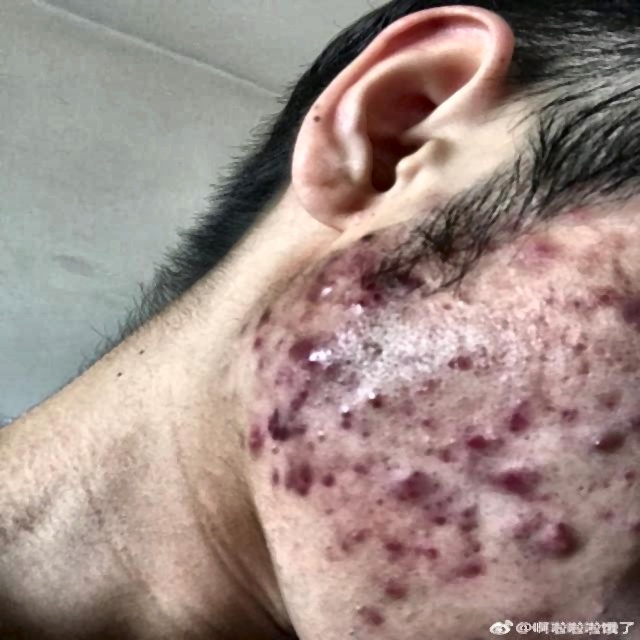nodule: (552, 280, 628, 327), (480, 454, 552, 493), (375, 466, 429, 504), (469, 393, 526, 428), (347, 368, 391, 412), (441, 534, 482, 581), (286, 344, 326, 380), (245, 305, 280, 343), (299, 276, 347, 303), (362, 596, 402, 628), (541, 527, 582, 558), (589, 384, 628, 416), (311, 458, 347, 492), (360, 265, 384, 314), (238, 424, 273, 457), (588, 430, 628, 458), (275, 406, 307, 441), (511, 501, 548, 531), (427, 441, 462, 471), (331, 320, 383, 340), (558, 200, 596, 227), (569, 475, 610, 498), (393, 348, 440, 368), (366, 574, 404, 598), (280, 472, 315, 498), (551, 401, 586, 427), (448, 502, 473, 537), (315, 540, 344, 570), (331, 405, 363, 432), (412, 372, 445, 398), (526, 311, 561, 335), (597, 256, 631, 280), (354, 339, 392, 360), (596, 230, 632, 252), (344, 454, 378, 477), (452, 426, 482, 452), (573, 356, 599, 386), (382, 532, 404, 566), (263, 464, 283, 501), (566, 334, 594, 360), (422, 506, 450, 532), (442, 353, 478, 373), (588, 502, 618, 526), (250, 352, 274, 381), (445, 289, 476, 311), (414, 412, 442, 436), (509, 246, 546, 264), (283, 386, 315, 406), (290, 306, 322, 326), (322, 251, 352, 271), (616, 466, 639, 492), (307, 428, 337, 447), (422, 533, 442, 561), (349, 524, 378, 543), (351, 229, 380, 248), (394, 401, 421, 421), (314, 384, 336, 408), (314, 501, 342, 518)
